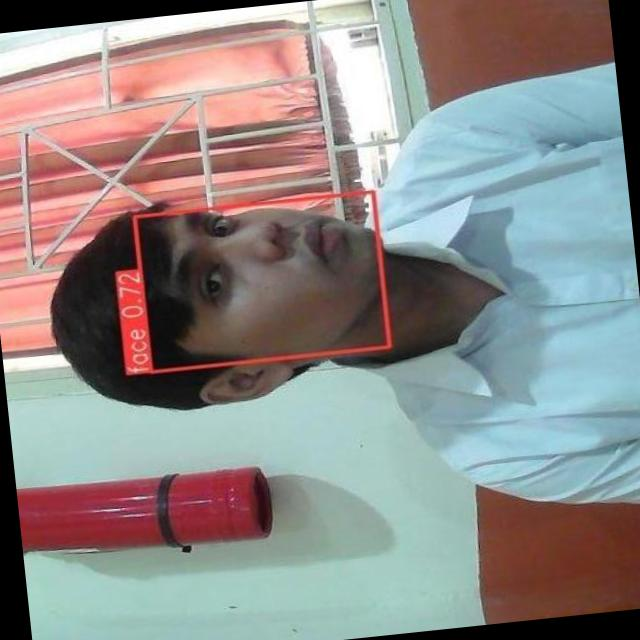bareface: (88, 168, 408, 426)
